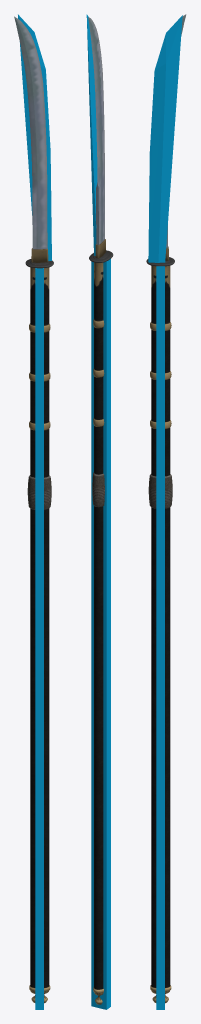
File: JWC_Weapon_Naginata_A_02.fbx
3 views of the same model, side by side, from view 1: azimuth 90°, elevation 25°; view 2: azimuth 150°, elevation 25°; view 3: azimuth 270°, elevation 25° (orthographic).
Visible parts, largest first — view 1: JWC_Weapon_Naginata_A_02, C_JWC_Weapon_Naginata_A_02_001, C_JWC_Weapon_Naginata_A_02; view 2: JWC_Weapon_Naginata_A_02, C_JWC_Weapon_Naginata_A_02_001, C_JWC_Weapon_Naginata_A_02; view 3: JWC_Weapon_Naginata_A_02, C_JWC_Weapon_Naginata_A_02_001, C_JWC_Weapon_Naginata_A_02.
Part boxes in pixels (bbox=[...]): JWC_Weapon_Naginata_A_02: bbox=[14, 16, 53, 1003]; C_JWC_Weapon_Naginata_A_02_001: bbox=[35, 268, 43, 1009]; C_JWC_Weapon_Naginata_A_02: bbox=[18, 14, 51, 260]; JWC_Weapon_Naginata_A_02: bbox=[88, 17, 113, 1004]; C_JWC_Weapon_Naginata_A_02_001: bbox=[91, 259, 110, 1009]; C_JWC_Weapon_Naginata_A_02: bbox=[86, 14, 97, 255]; JWC_Weapon_Naginata_A_02: bbox=[146, 14, 186, 1003]; C_JWC_Weapon_Naginata_A_02_001: bbox=[156, 266, 164, 1009]; C_JWC_Weapon_Naginata_A_02: bbox=[148, 15, 182, 262].
Size of the model in its own units: 0.0557 by 2.97 by 0.1085.
